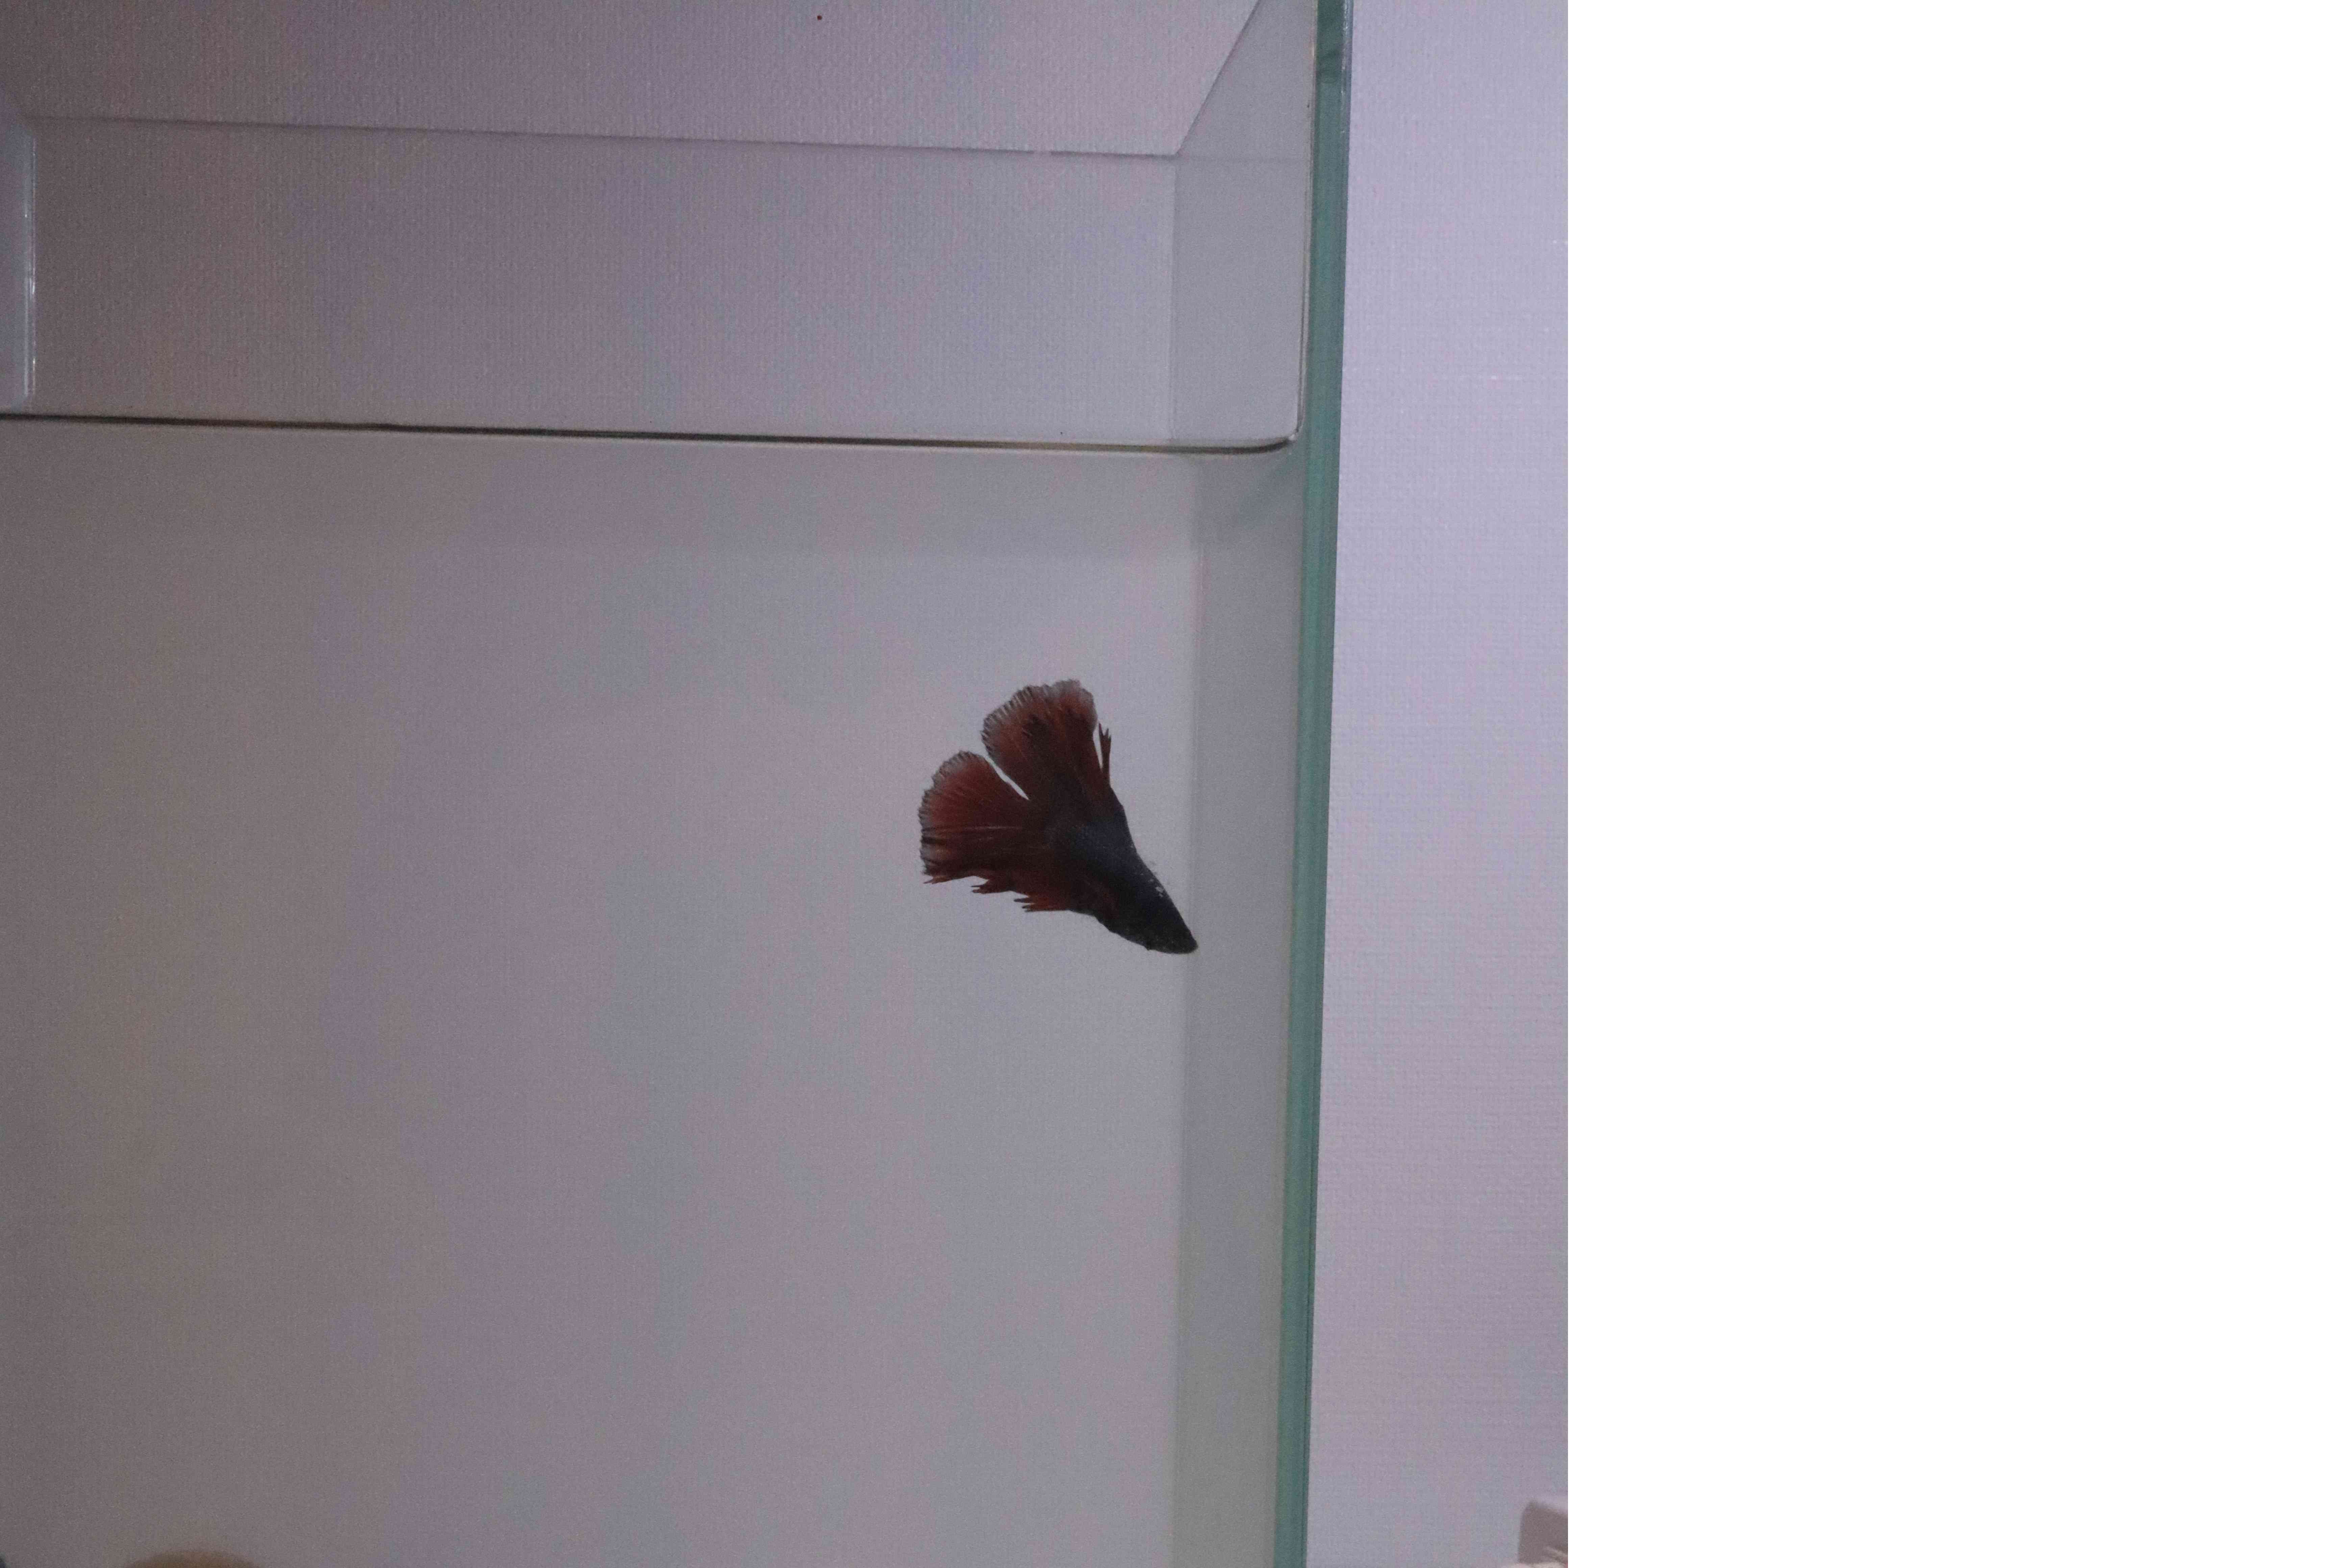fish: (906, 667, 1214, 971)
